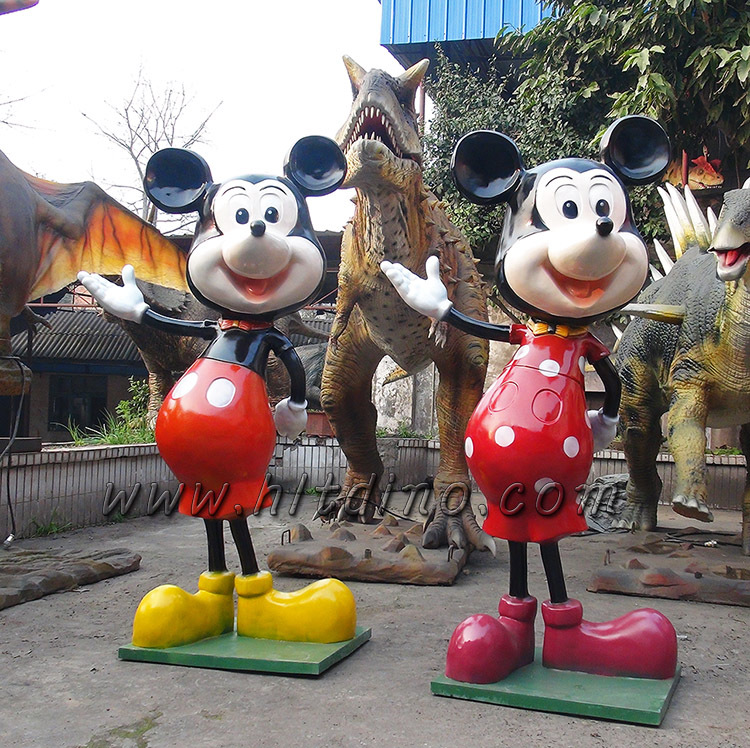Mickey: (447, 110, 679, 322), (139, 135, 348, 318)
